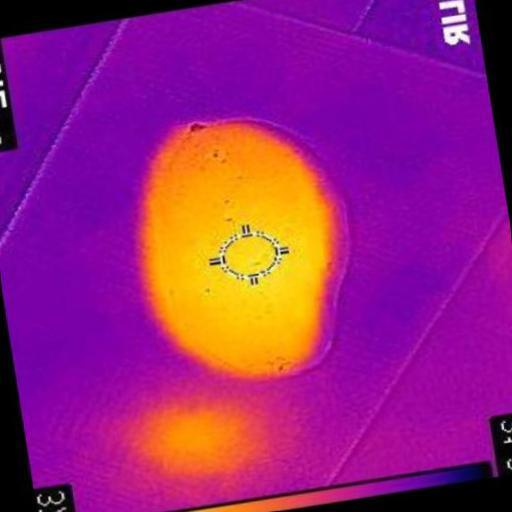alphanso: (139, 121, 347, 378)
